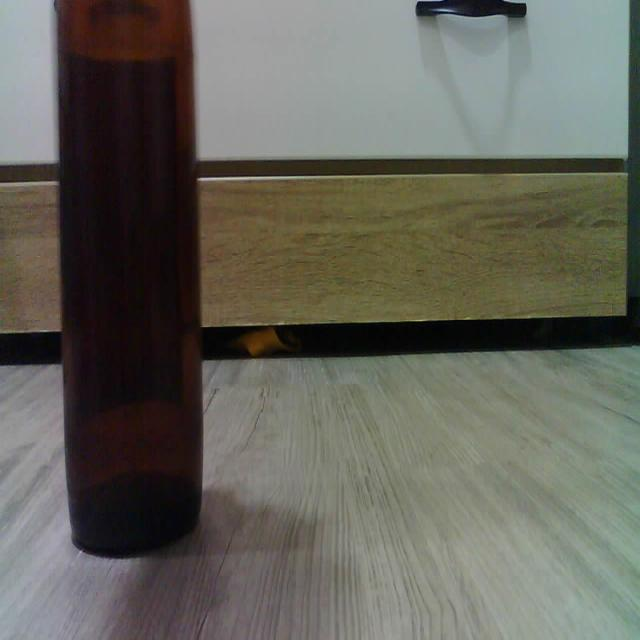bottle: (56, 0, 203, 555)
